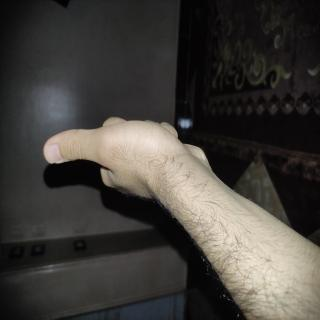ALIF: (73, 53, 168, 273)
